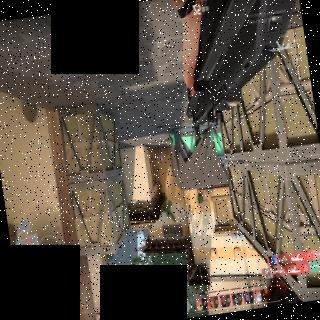ENEMY-BODY: (156, 144, 163, 164)
ENEMY-HEAD: (160, 160, 162, 163)
